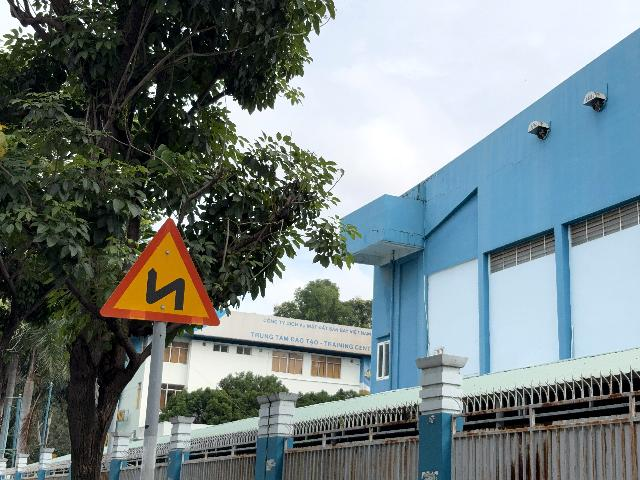nhieu-cho-ngoat-nguy-hiem-lien-tiep: (99, 218, 221, 327)
